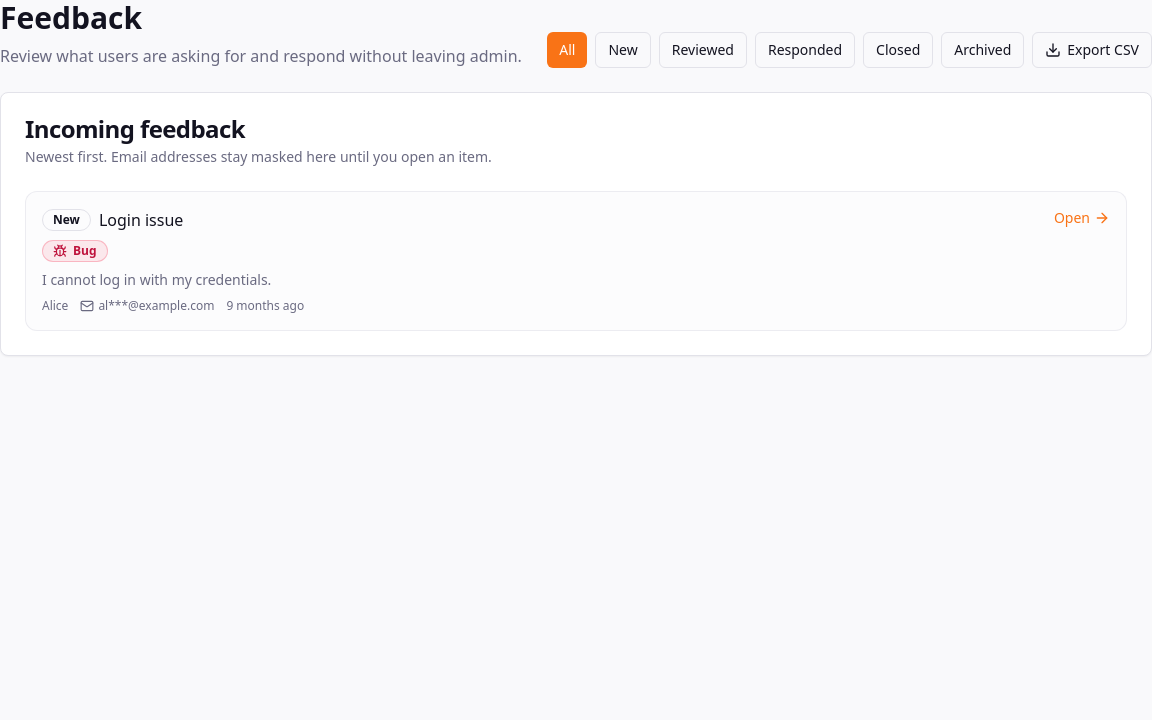
Test: AdminFeedbackPage › shows delete confirmation dialog
This screenshot has width=1152, height=720.
Click the button named "open". click: (576, 261)
box: [25,191,1127,331]
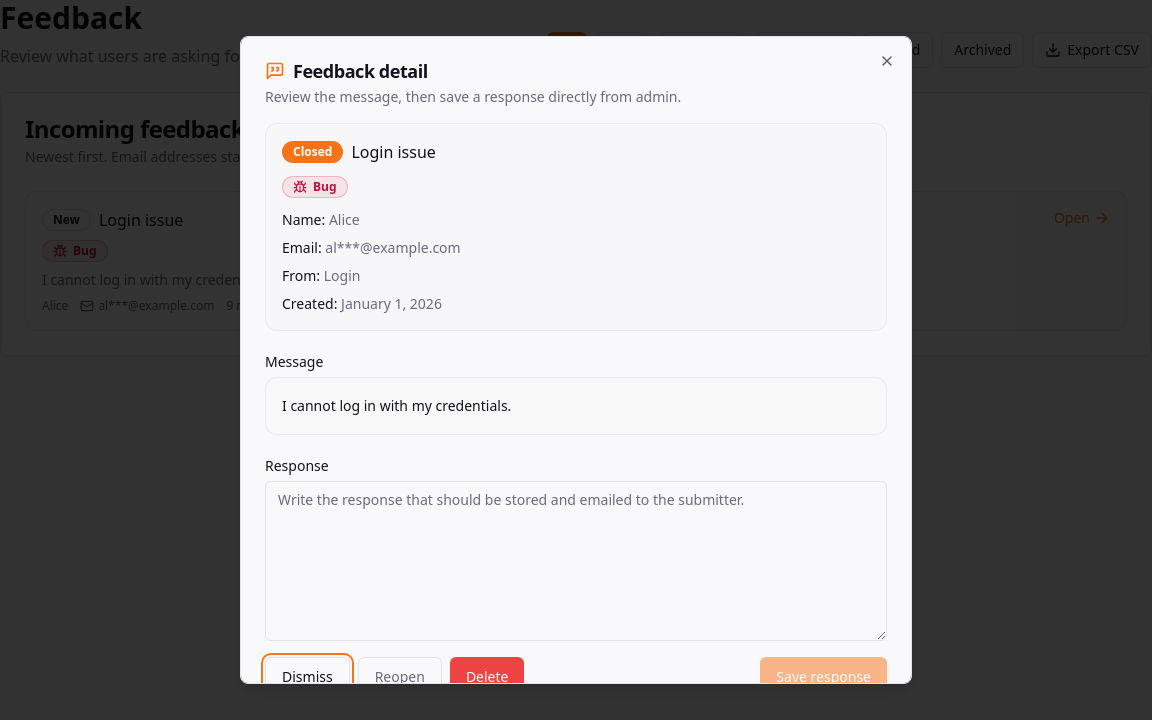
Expected: the button "Delete" is shown, [450,657,524,684]
Click the button "Delete". click: (487, 677)
box: [450,657,524,697]
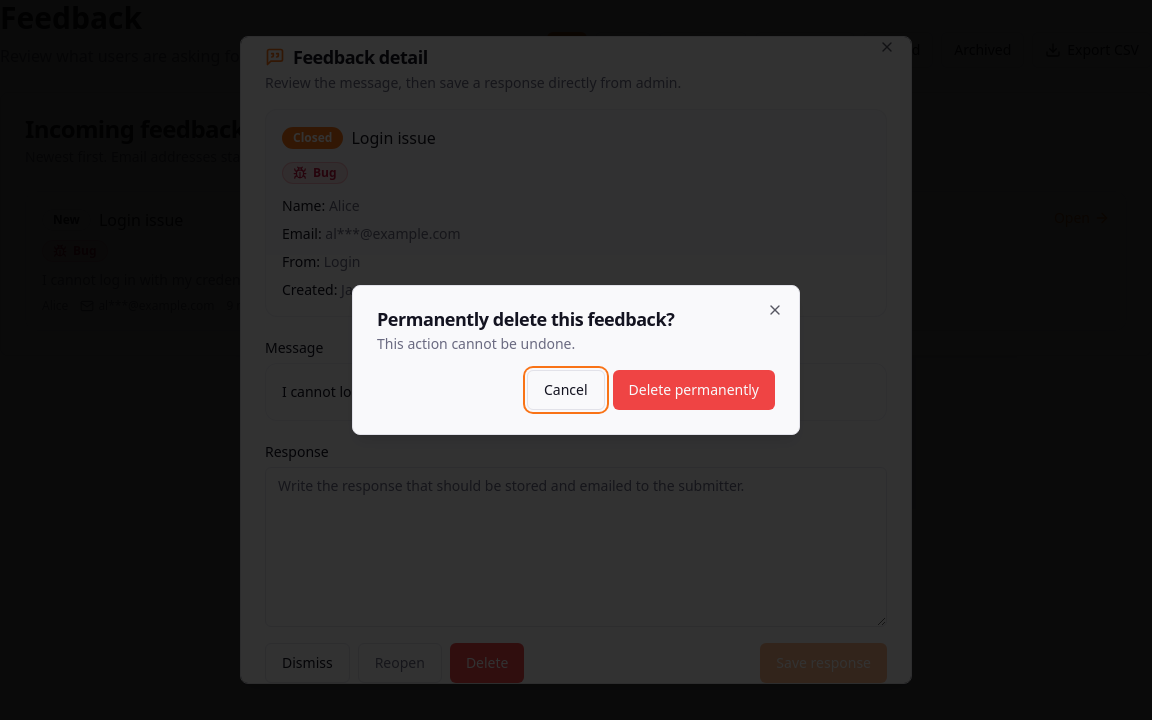
Expected: the heading "Permanently delete this feedback?" is shown, [377,307,674,331]
Expected: the text "This action cannot be undone." is shown, [377,334,575,353]
Expected: the button "Delete permanently" is shown, [612,370,775,410]
